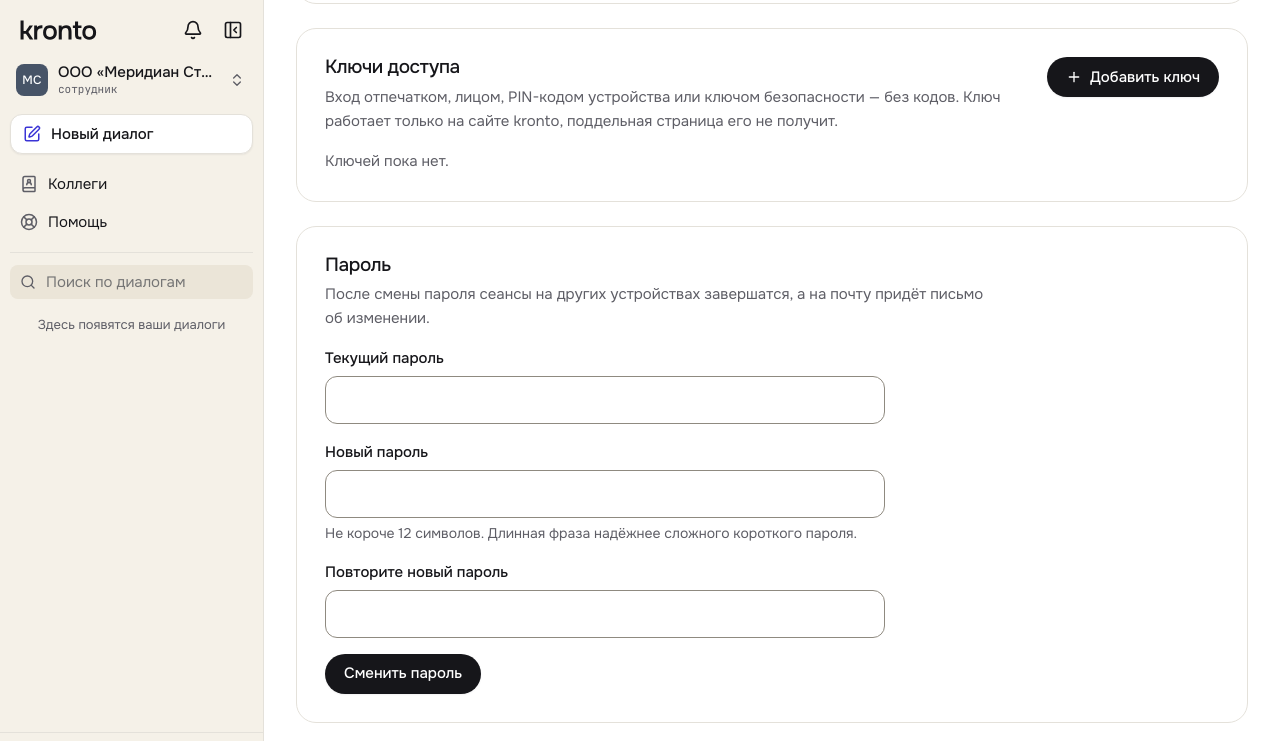
Scenario: безопасность: пароль › не отправляет несовпадающие пароли
This screenshot has width=1280, height=741.
(page scrolled)
Type "старый пароль входа" into the password field labelled "Текущий пароль" at (605, 400), box [325,376,885,424]
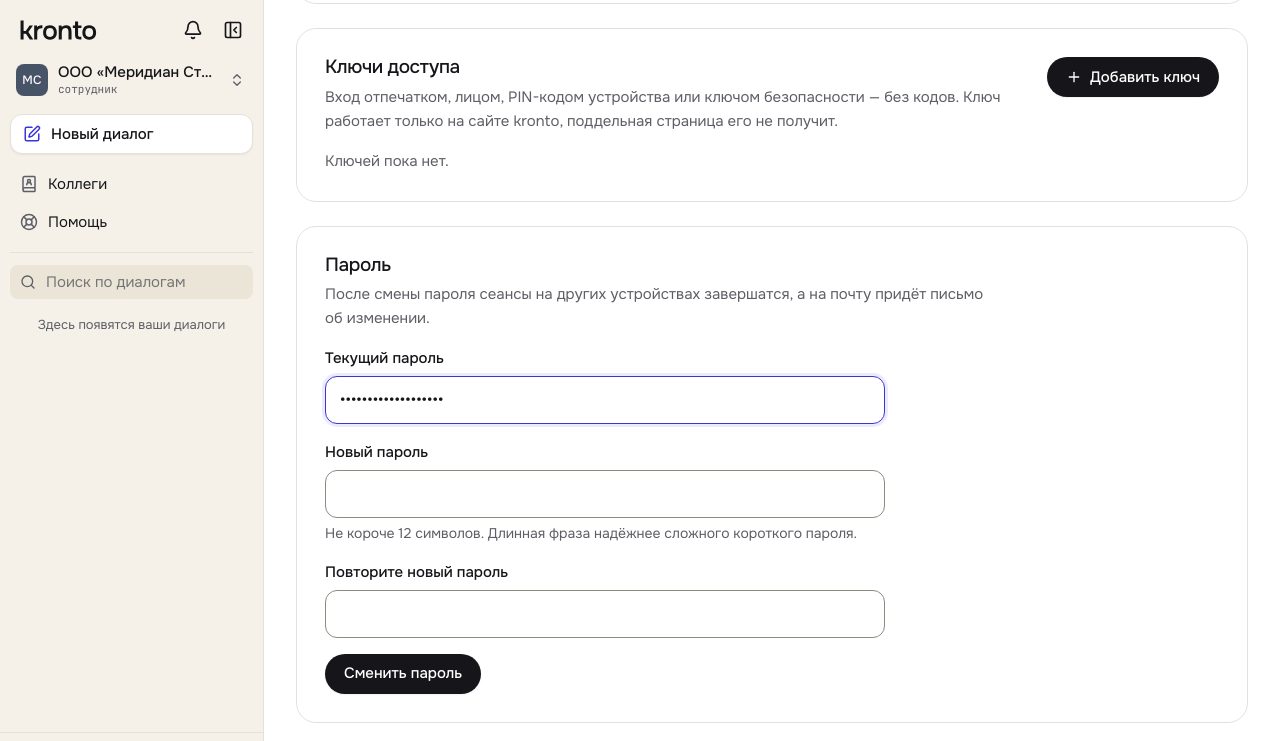
Type "длинная фраза для входа" into the password field labelled "Новый пароль" at (605, 494), box [325,470,885,518]
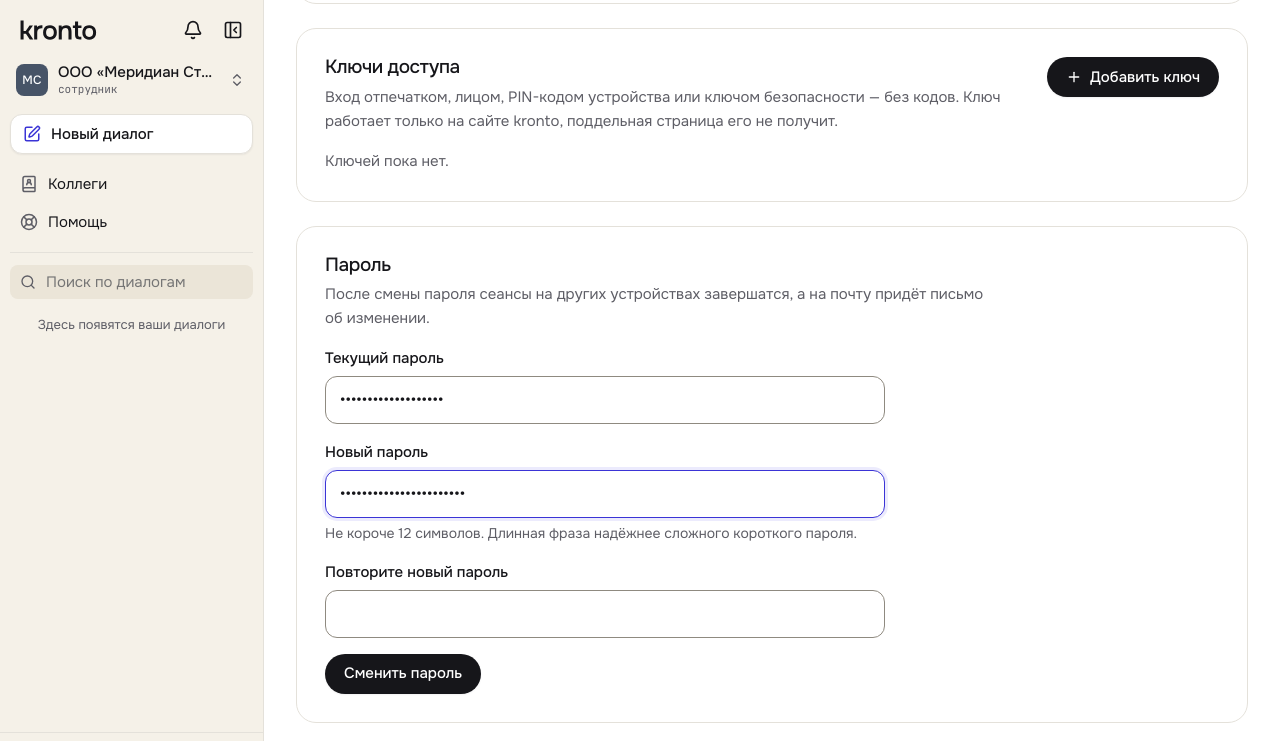
Type "другая фраза для входа" into the password field labelled "Повторите новый пароль" at (605, 614), box [325,590,885,638]
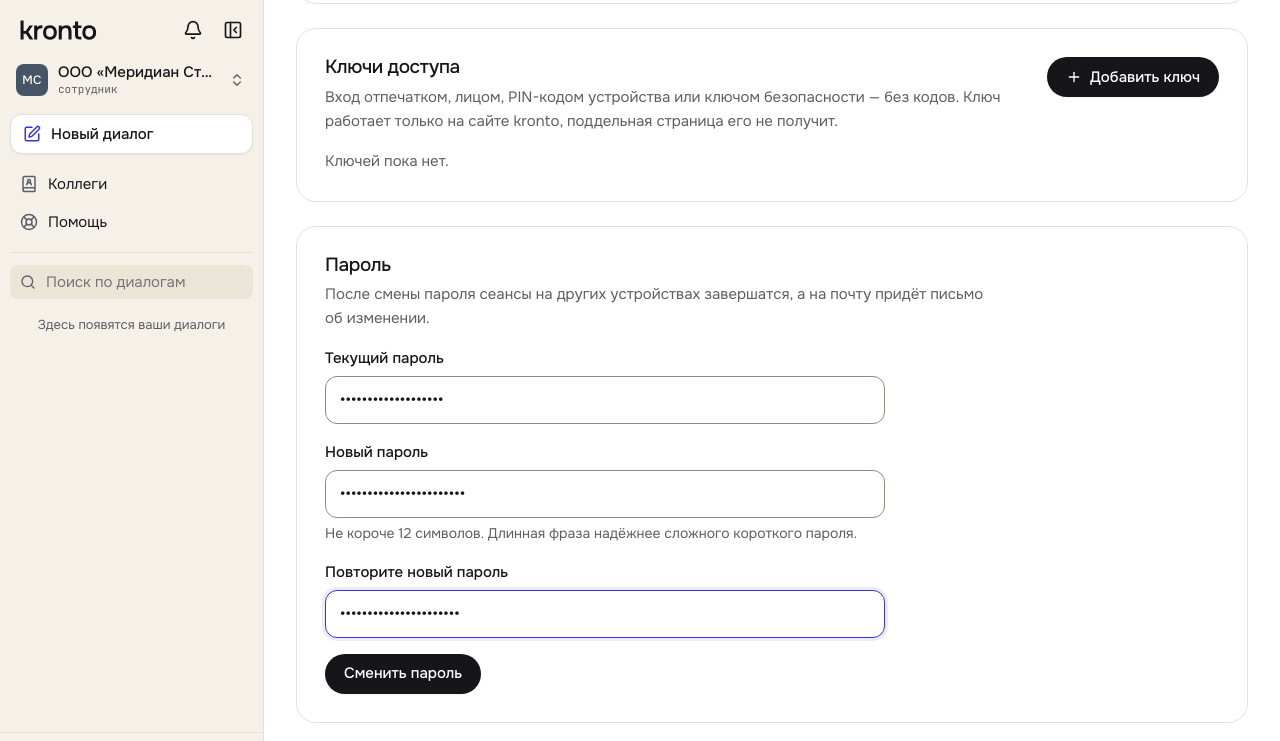
Click the button "Сменить пароль" at (403, 674), box [325,654,481,694]
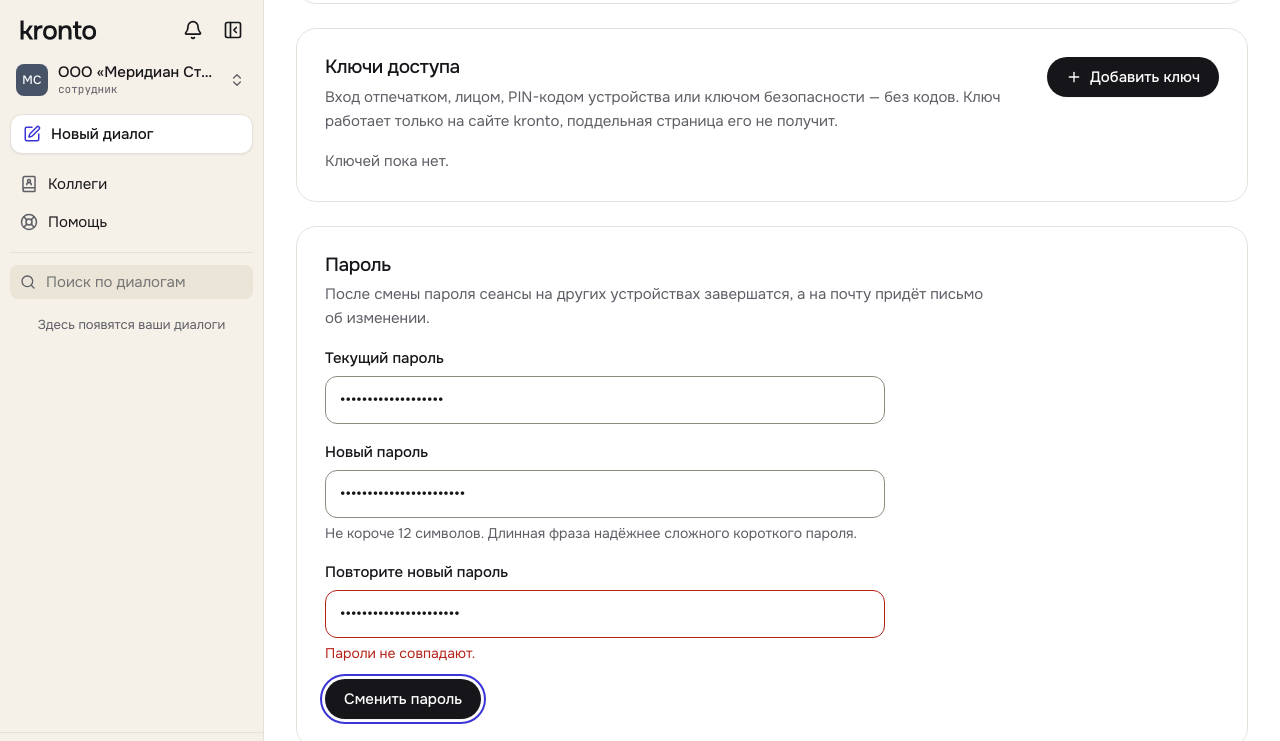
Check: the text "Пароли не совпадают." is shown, box [325,644,475,662]
